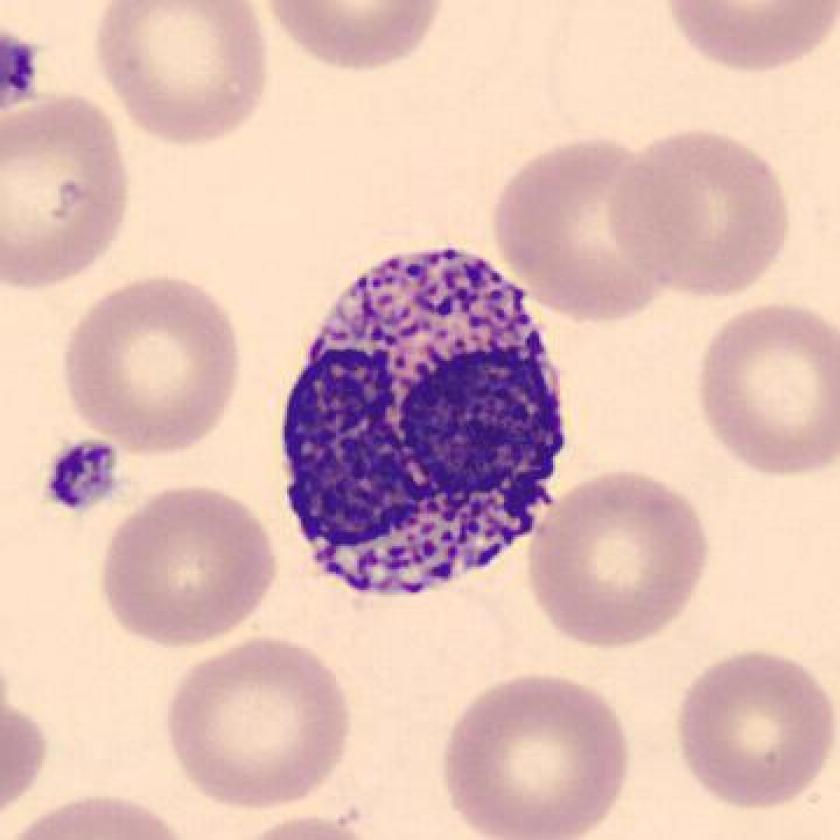basophil: (276, 242, 566, 605)
